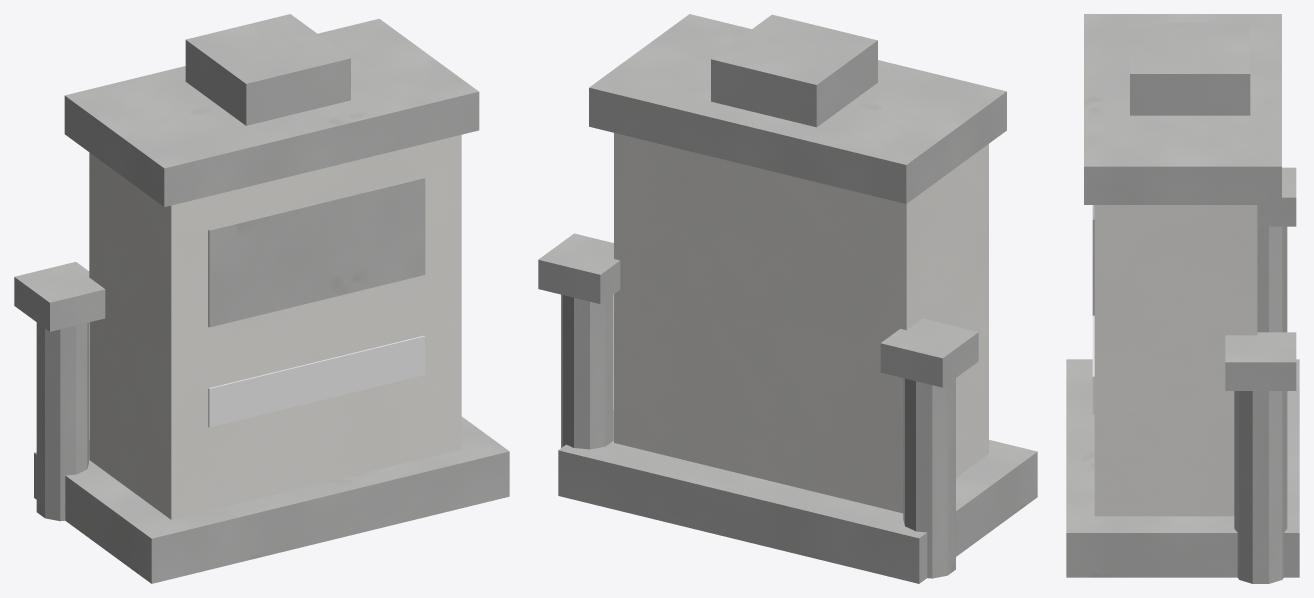
File: breaker.gltf
3 views of the same model, side by side, from view 1: azimuth 30°, elevation 25°; view 2: azimuth 150°, elevation 25°; view 3: azimuth 270°, elevation 25° (orthographic).
Visible parts, largest first — view 1: jx_breaker; view 2: jx_breaker; view 3: jx_breaker.
Part boxes in pixels (bbox=[...]): jx_breaker: bbox=[14, 14, 509, 583]; jx_breaker: bbox=[538, 14, 1037, 583]; jx_breaker: bbox=[1066, 14, 1299, 583].
Size of the model in its own units: 1.3 by 1.38 by 0.66.
Materials: 3 (3 with a texture image).
